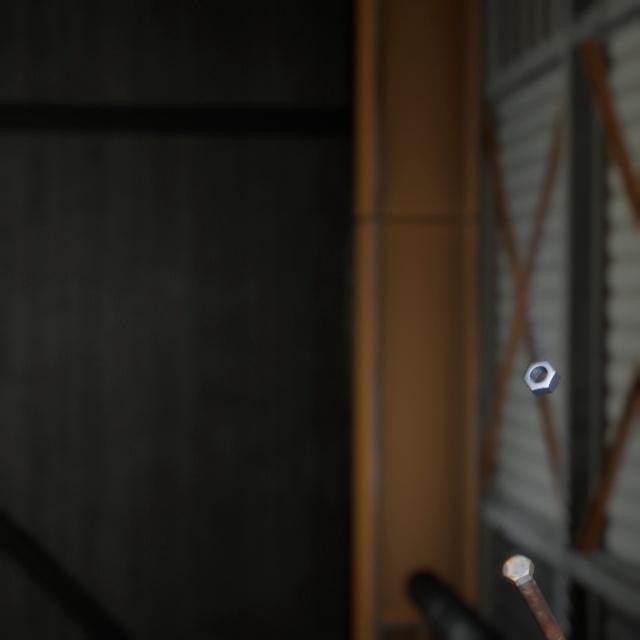bolt: (498, 526, 579, 640)
nut: (518, 336, 565, 381)
